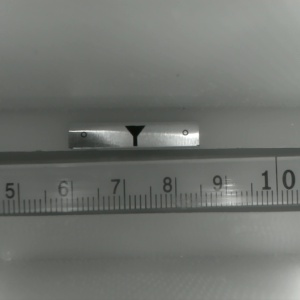0: (282, 169, 295, 190)
1: (262, 169, 270, 189)
5: (4, 183, 14, 198)
6: (57, 181, 67, 196)
7: (110, 178, 120, 194)
8: (161, 176, 170, 192)
9: (212, 175, 221, 190)
finger: (123, 126, 145, 147)
